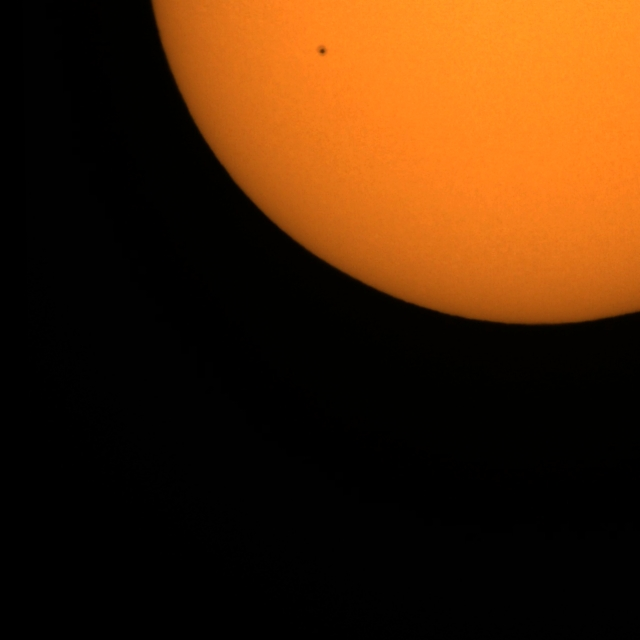sunspot: (316, 44, 328, 57)
